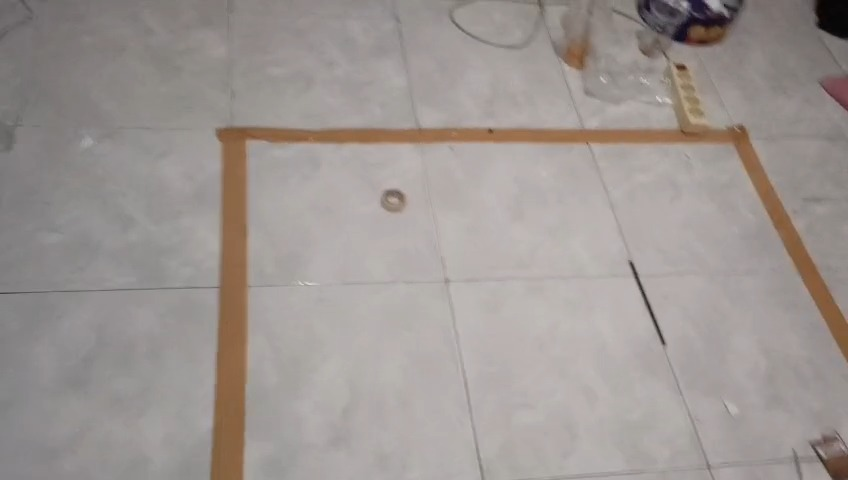floor marking: (211, 125, 847, 479)
